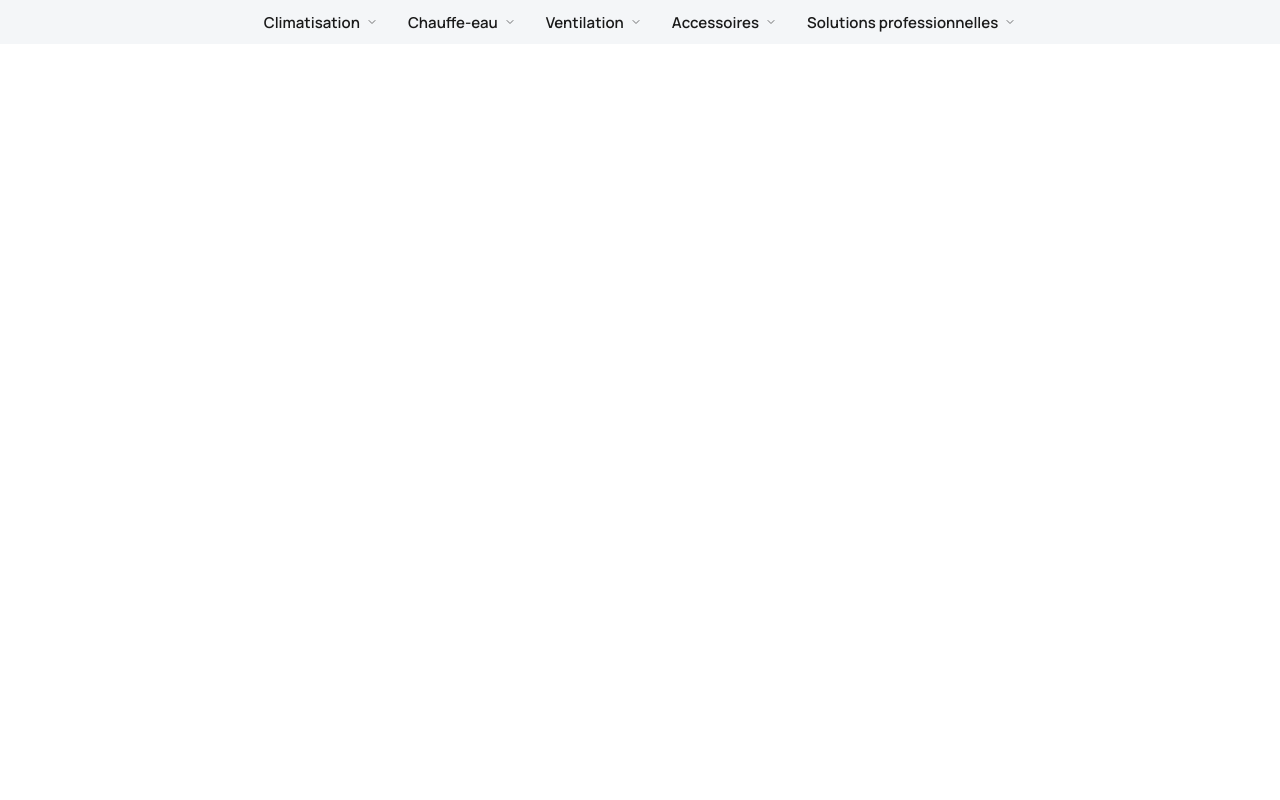
it: ArfroMegaNav › opens a panel with the button and closes it with Escape, focus back on the button
The width and height of the screenshot is (1280, 800).
Click the button "Climatisation" at (321, 22), box [252,0,390,44]
(page scrolled)
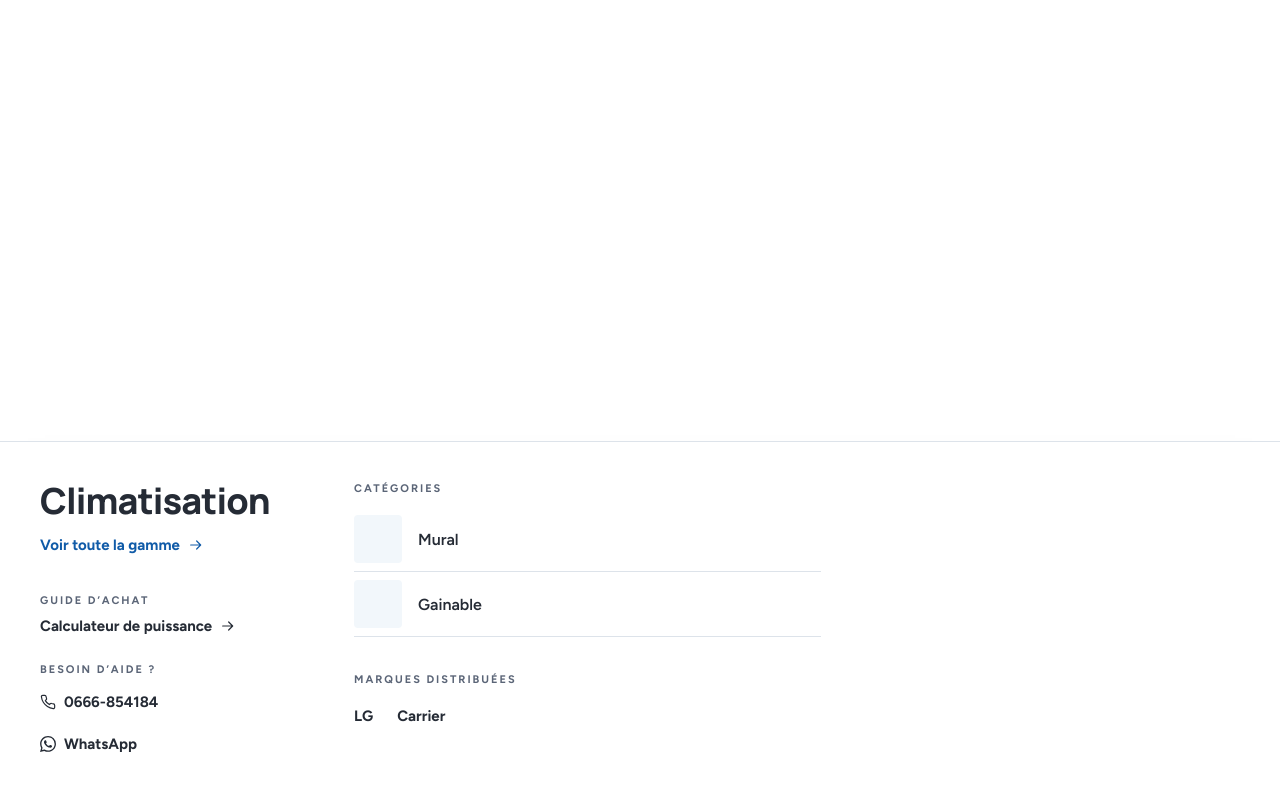
Expected: the element with id "arfro-mega-climatisation" is shown, [0,441,1279,799]
Press Escape
(page scrolled)
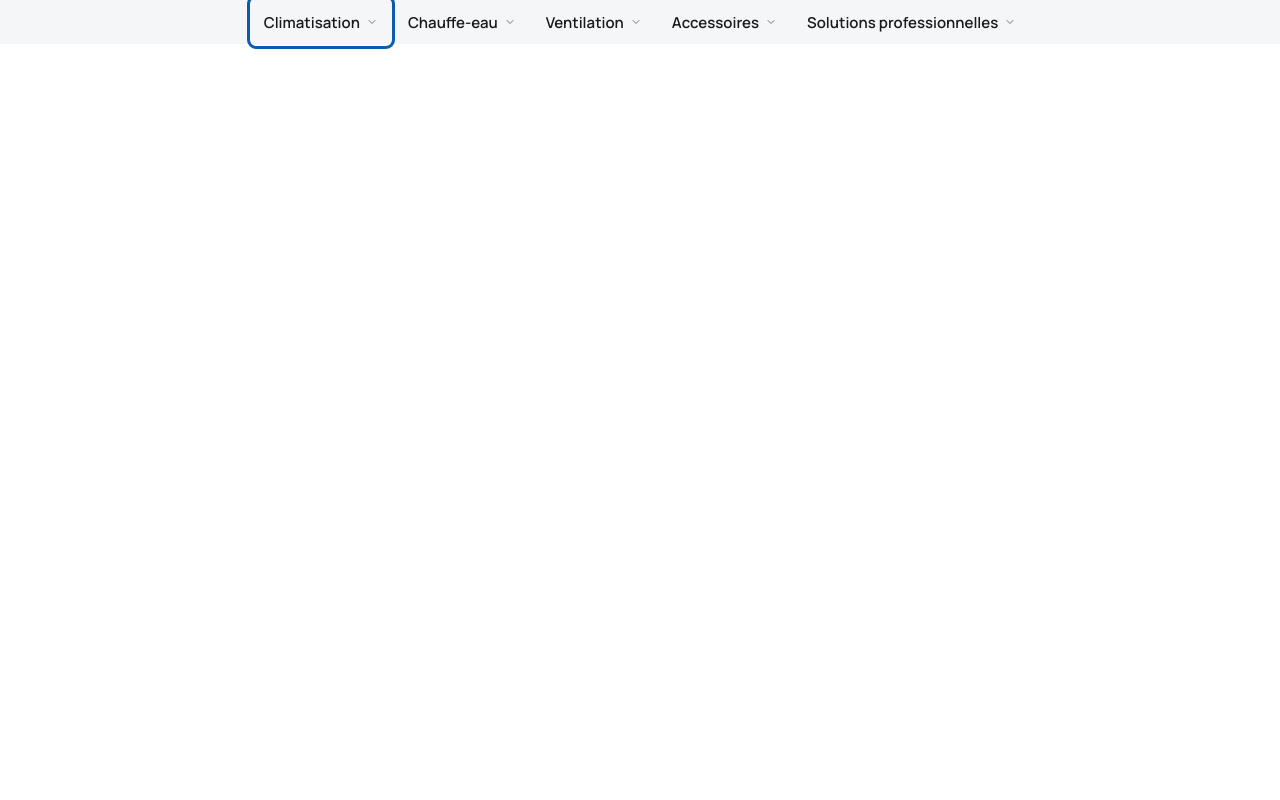
Expected: the button "Climatisation" is collapsed, [252,0,390,44]
